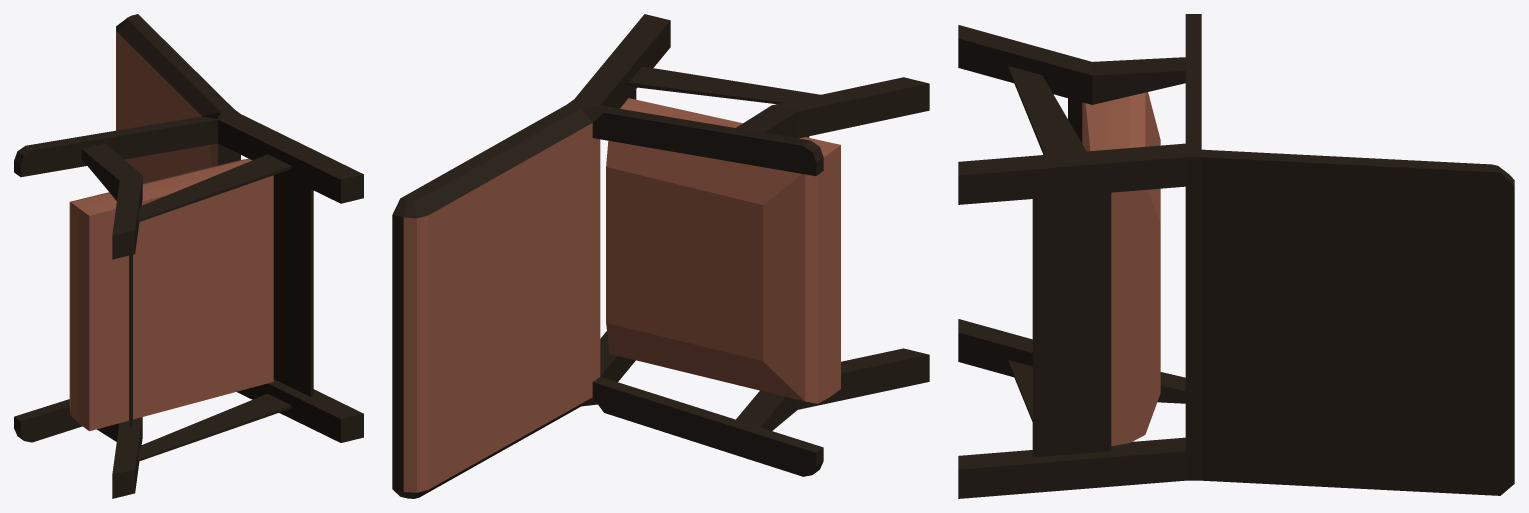
The model's file is Chair.fbx.
3 renders of one model, left to right at view 1: azimuth 30°, elevation 25°; view 2: azimuth 150°, elevation 25°; view 3: azimuth 270°, elevation 25°, orthographic. The views are drawn at different scales.
Visible parts, largest first — view 1: Chair, Acolchado; view 2: Chair, Acolchado; view 3: Chair, Acolchado.
Part boxes in pixels (x1,y1,x2,y2): Chair: [14, 14, 363, 498]; Acolchado: [69, 158, 273, 431]; Chair: [392, 14, 929, 498]; Acolchado: [606, 98, 840, 403]; Chair: [958, 14, 1514, 498]; Acolchado: [1082, 92, 1160, 446].
Bounding box in the file's own units: 110 × 122 × 172.
